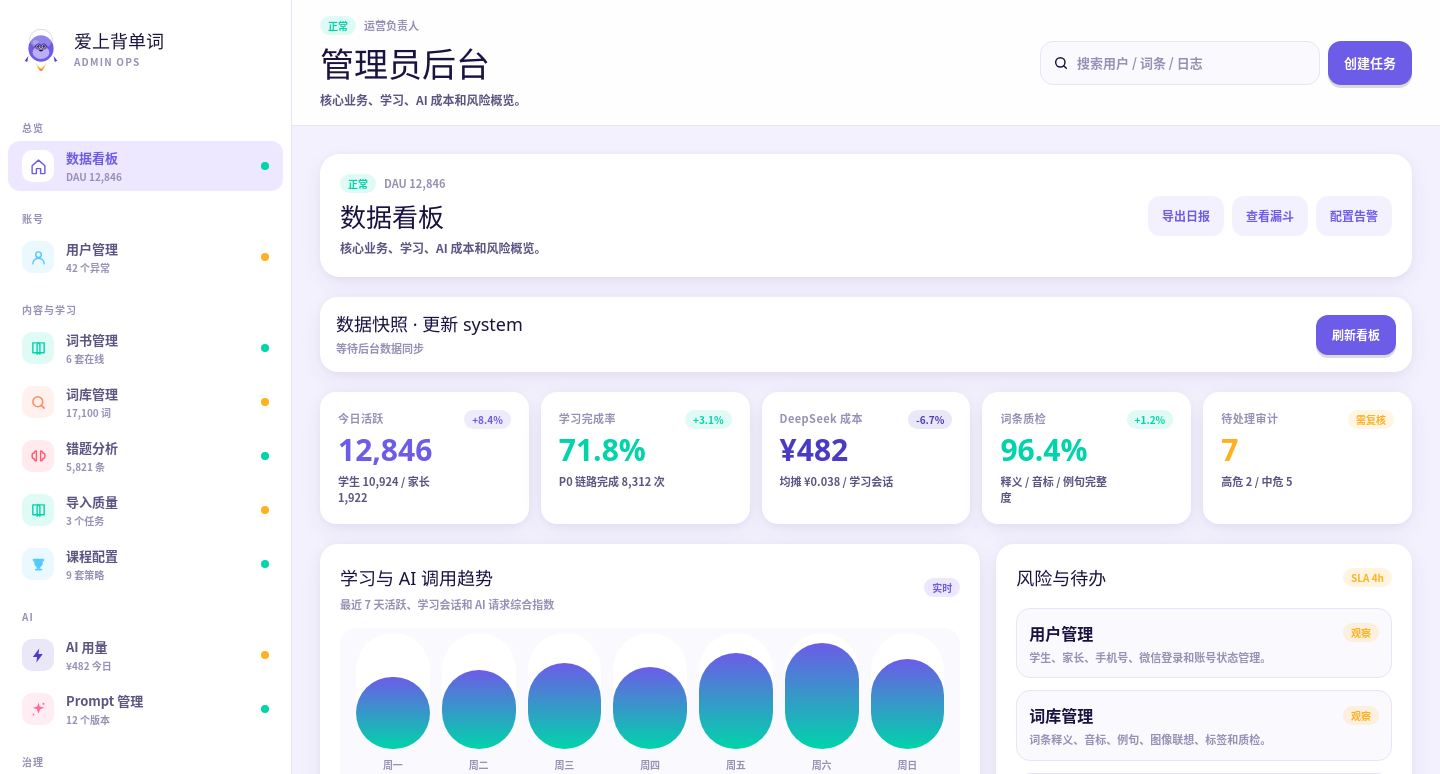
AdminScreen › loads curriculum policies and starts a gray rollout
The image size is (1440, 774).
Click the button "课程配置 9 套策略": (38, 564) x1=8 y1=539 x2=283 y2=589
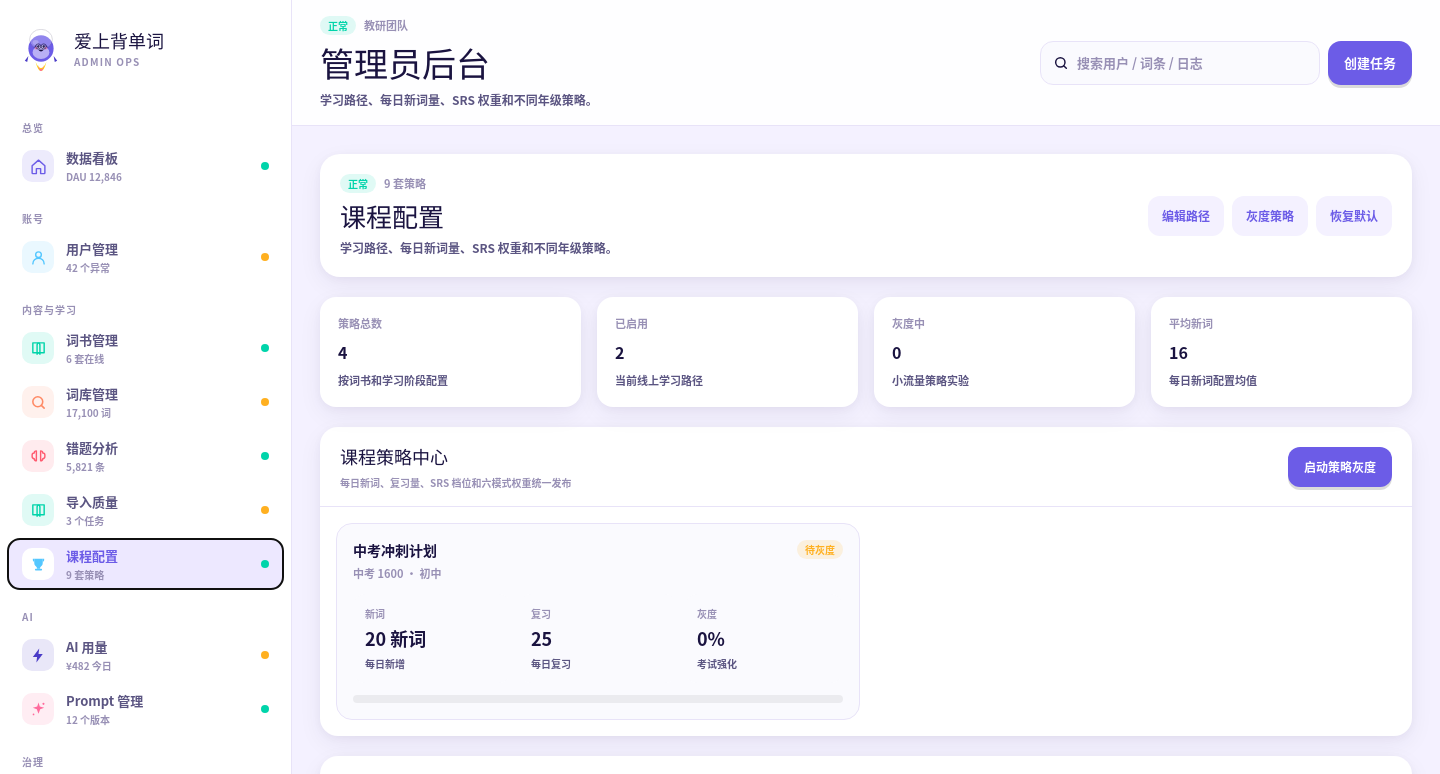
Result: the heading "课程策略中心" is shown at x1=340 y1=445 x2=448 y2=469
Result: the text "中考冲刺计划" is shown at x1=353 y1=540 x2=442 y2=561
Result: the text "待灰度" is shown at x1=797 y1=540 x2=843 y2=559
Click the button "启动策略灰度": (1340, 467) x1=1288 y1=447 x2=1392 y2=487
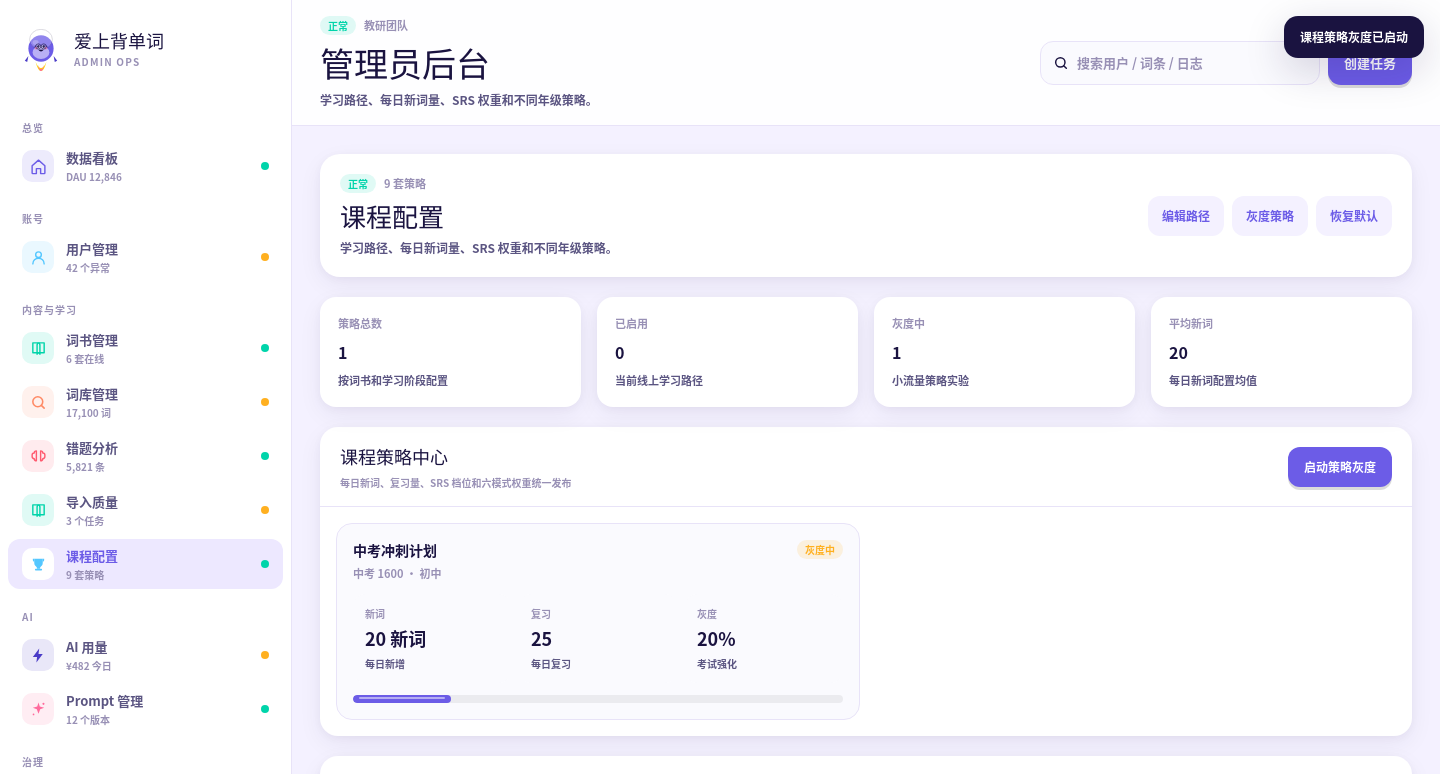
Result: the text "灰度中" next to "平均新词" is shown at x1=892 y1=315 x2=925 y2=331
Result: the text "课程策略灰度已启动" is shown at x1=1284 y1=16 x2=1424 y2=58
Result: the text "20%" is shown at x1=697 y1=625 x2=736 y2=651
